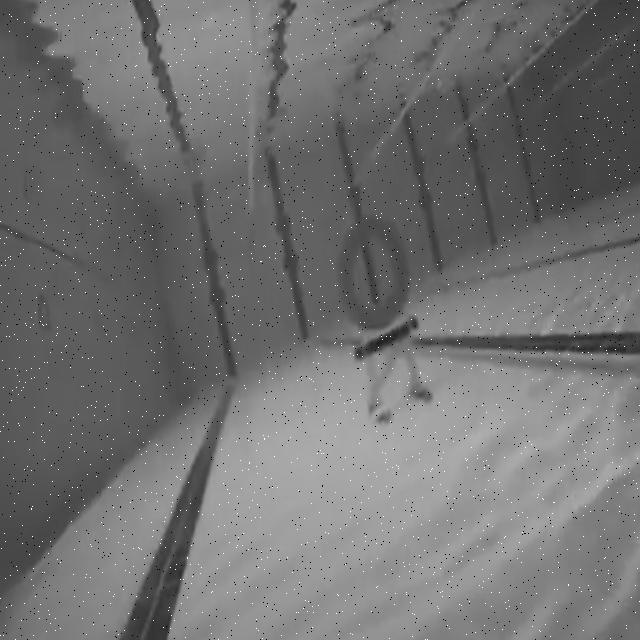Circle: (336, 208, 412, 331)
